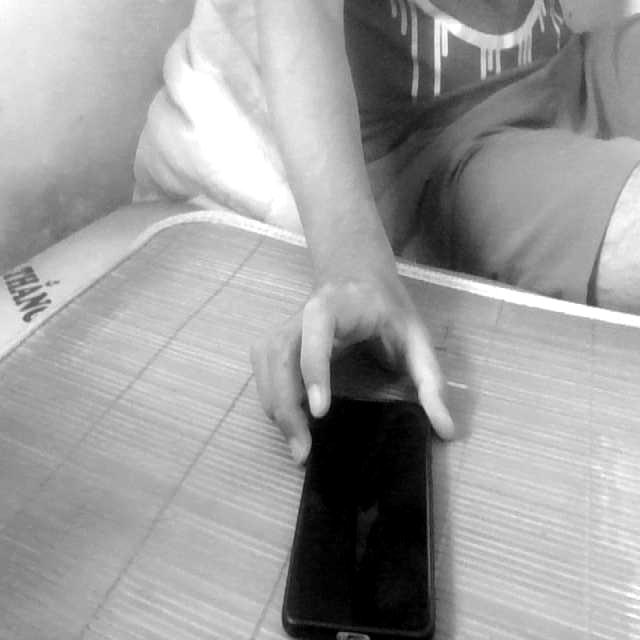phone: (274, 384, 456, 640)
